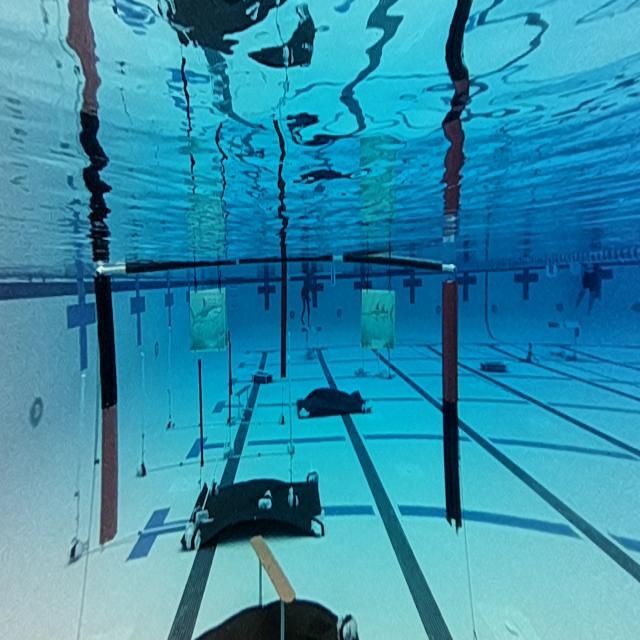pointed_nose: (361, 290, 395, 345)
round_nose: (189, 283, 229, 355)
